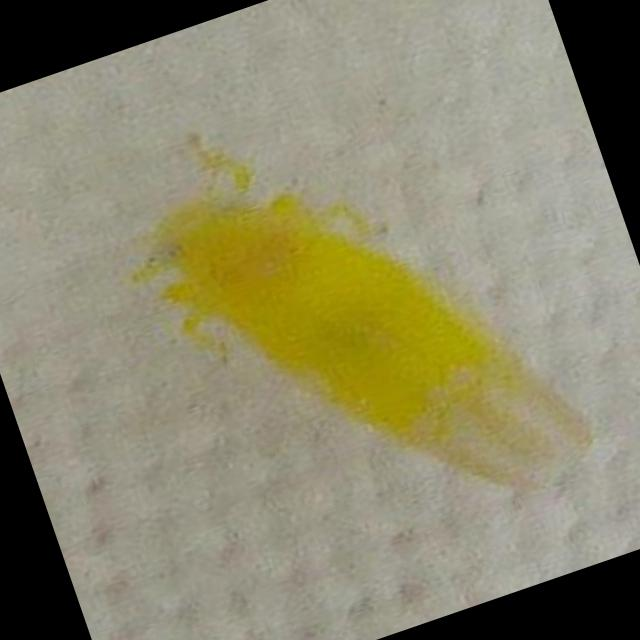green-leafhopper: (102, 85, 598, 582)
